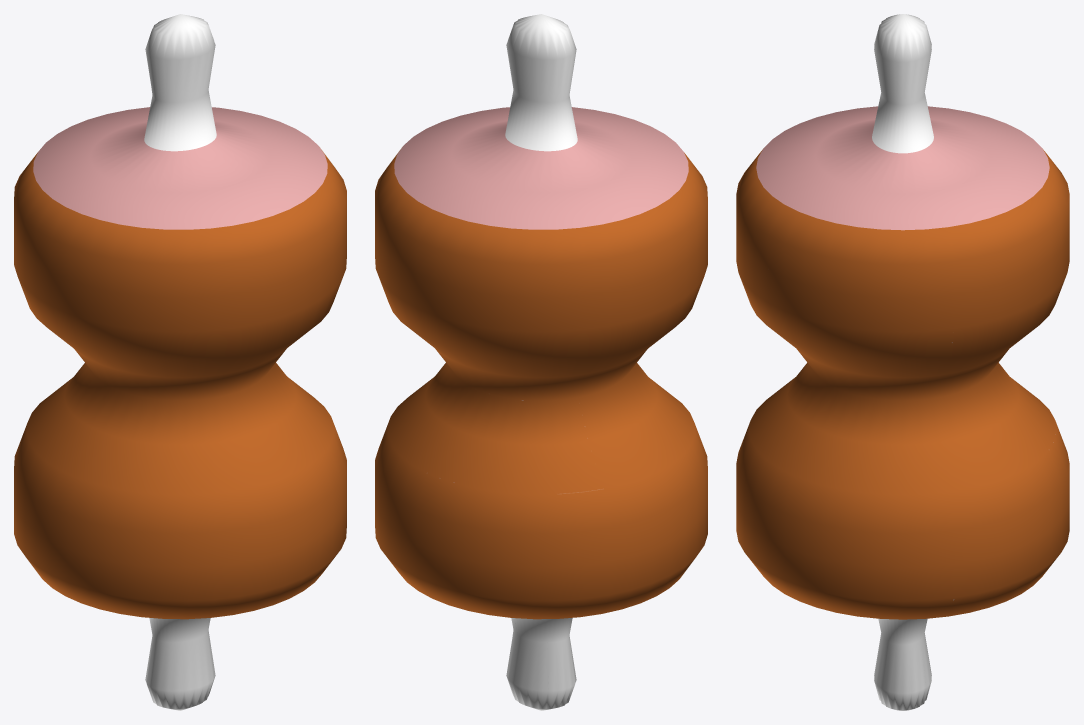
The model's file is meatSmoothed.fbx.
The picture shows the model from 3 angles, left to right: view 1: azimuth 30°, elevation 25°; view 2: azimuth 150°, elevation 25°; view 3: azimuth 270°, elevation 25°; orthographic projection.
Parts seen in each view (by area): view 1: pCylinder2; view 2: pCylinder2; view 3: pCylinder2.
Boxes of the visible parts, x1,y1,x2,y2 form: pCylinder2: (14, 14, 346, 710); pCylinder2: (375, 14, 707, 710); pCylinder2: (736, 14, 1069, 710).
Size of the model in its own units: 1.98 by 4.56 by 1.98.
Materials: 1 (1 with a texture image).
